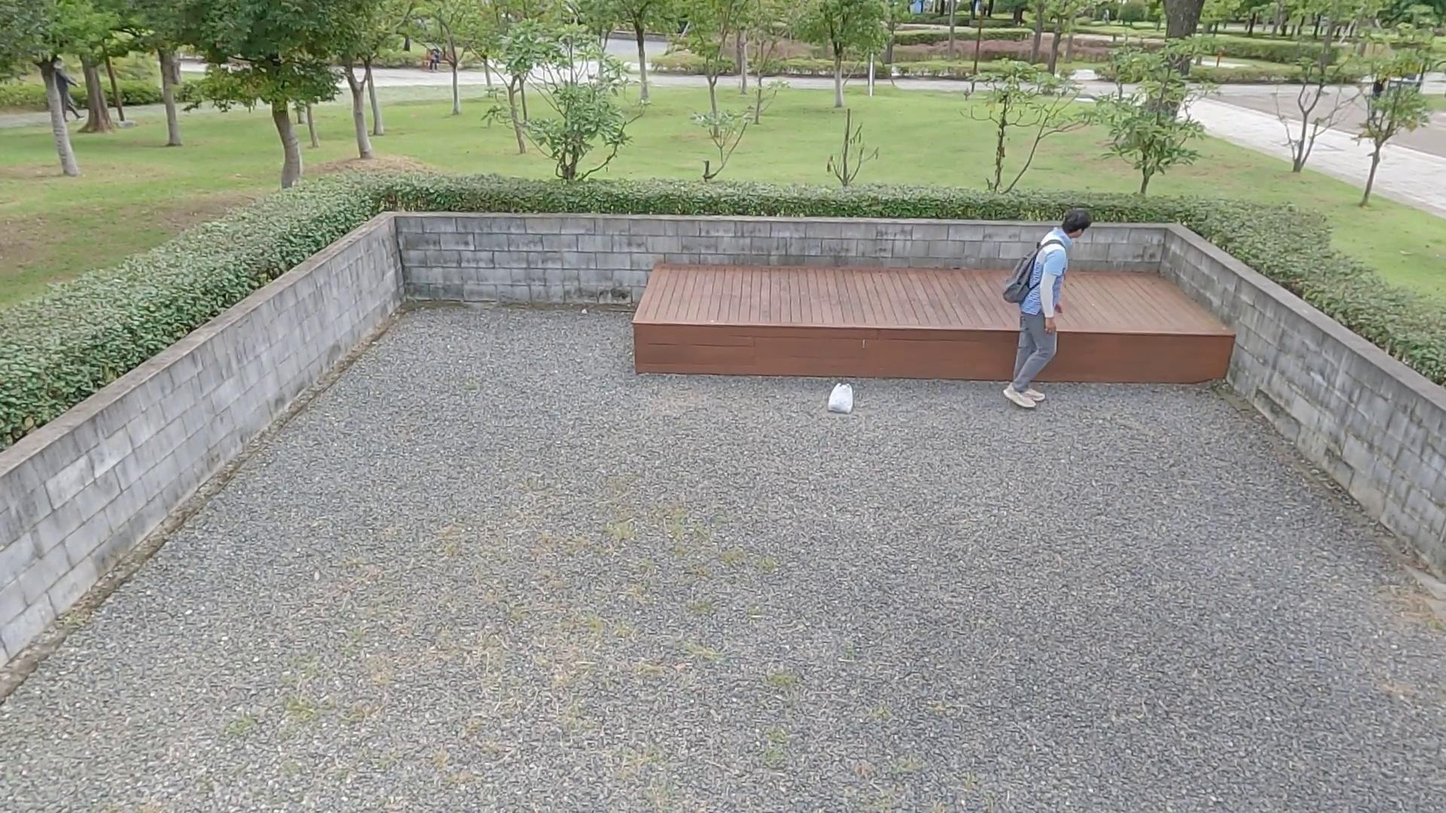person: (1003, 208, 1091, 412)
trash: (827, 380, 855, 414)
